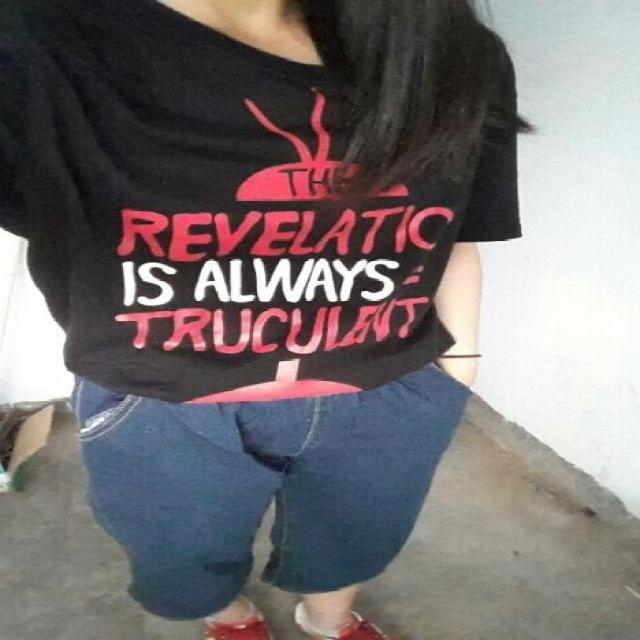short sleeve top: (0, 1, 514, 395)
trousers: (72, 330, 446, 599)
